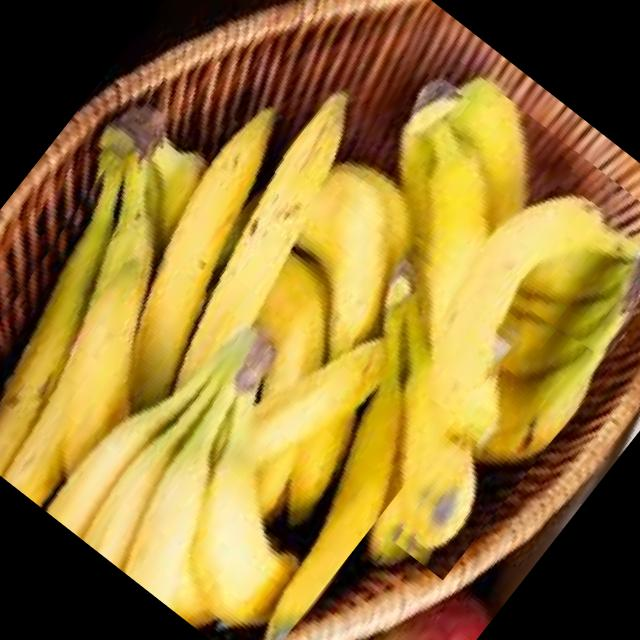Organic: (0, 61, 524, 640), (329, 43, 640, 384), (381, 350, 585, 580)
